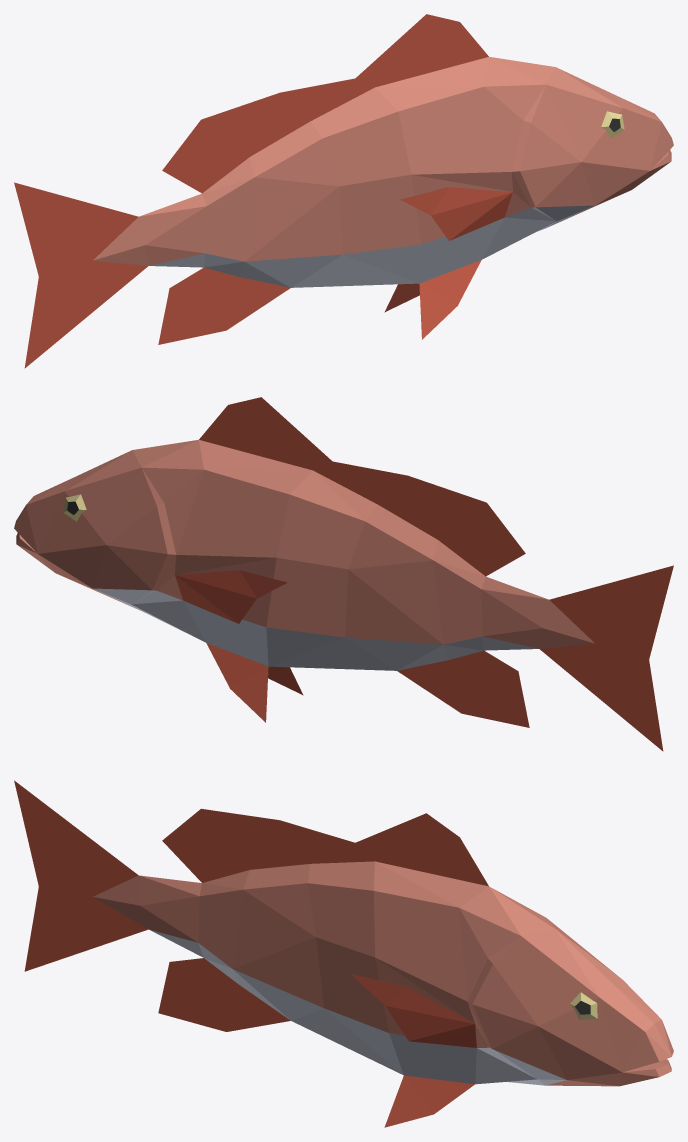
File: Red Snapper.fbx
The picture shows the model from 3 angles, top to bottom: view 1: azimuth 30°, elevation 25°; view 2: azimuth 150°, elevation 25°; view 3: azimuth 330°, elevation 25°; orthographic projection.
Visible parts, largest first — view 1: Red Snapper; view 2: Red Snapper; view 3: Red Snapper.
Boxes of the visible parts, x1,y1,x2,y2 form: Red Snapper: [14, 14, 673, 368]; Red Snapper: [14, 397, 673, 751]; Red Snapper: [14, 780, 673, 1127].
Bounding box in the file's own units: 4.84 × 2.15 × 0.6391.
